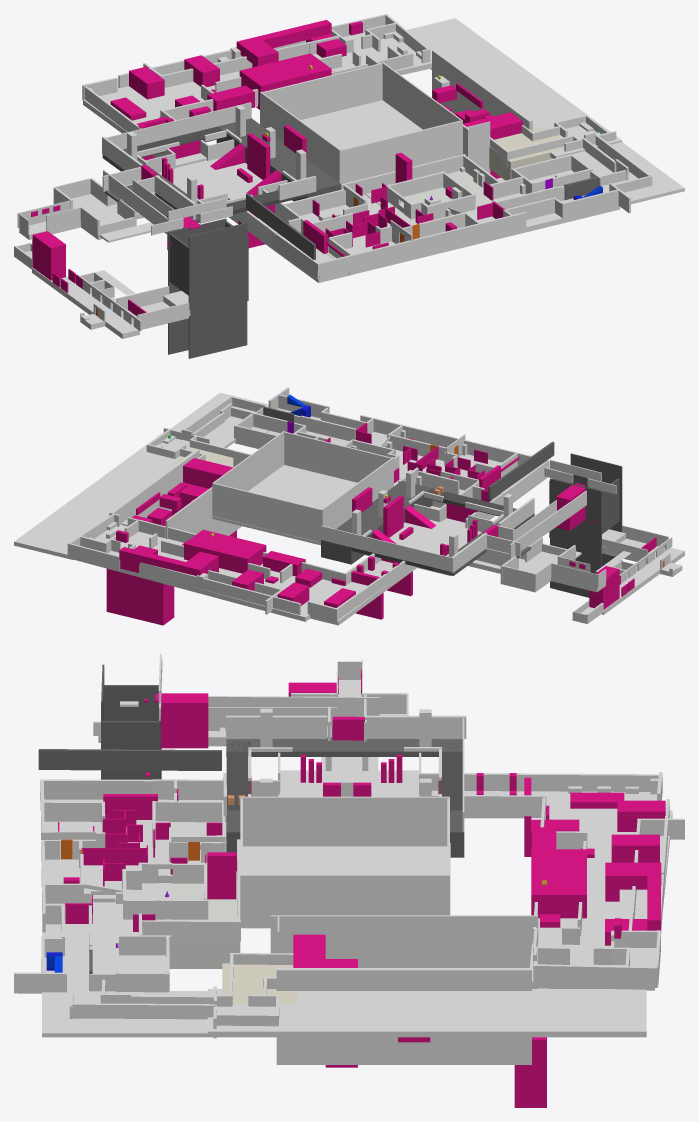
Rendered from 阕限空间第一层.fbx.
3 renders of one model, top to bottom at view 1: azimuth 30°, elevation 25°; view 2: azimuth 150°, elevation 25°; view 3: azimuth 270°, elevation 25°, orthographic. The views are drawn at different scales.
Parts seen in each view (by area): view 1: 2楼会议室, Cube.032, 立方体.236, 立方体.114, 立方体.113, 2F, 立方体.049, 立方体.110, 立方体.111, 立方体.112, 立方体.305, 立方体.003 (+39 smaller); view 2: 2楼会议室, Cube.032, 立方体.113, 2F, 立方体.114, 立方体.110, Cube.036, 立方体.225, 立方体.041, 立方体.111, 立方体.305, 立方体.112 (+47 smaller); view 3: 2楼会议室, 立方体.017, 立方体.003, 立方体.112, Cube.032, 立方体.111, 2F, 立方体.110, 立方体.016, 立方体.142, Cube.054, 立方体.032 (+33 smaller).
Part boxes in pixels (bbox=[...]): 2楼会议室: bbox=[19, 18, 668, 282]; Cube.032: bbox=[129, 20, 346, 116]; 立方体.236: bbox=[188, 222, 247, 358]; 立方体.114: bbox=[341, 120, 461, 184]; 立方体.113: bbox=[262, 63, 382, 119]; 2F: bbox=[102, 118, 341, 222]; 立方体.049: bbox=[319, 212, 526, 278]; 立方体.110: bbox=[300, 100, 422, 149]; 立方体.111: bbox=[381, 62, 462, 154]; 立方体.112: bbox=[260, 91, 341, 183]; 立方体.305: bbox=[106, 102, 251, 149]; 立方体.003: bbox=[438, 54, 525, 120]; 2楼会议室: bbox=[14, 403, 605, 625]; Cube.032: bbox=[119, 529, 322, 605]; 立方体.113: bbox=[213, 483, 321, 542]; 2F: bbox=[321, 481, 534, 575]; 立方体.114: bbox=[284, 431, 391, 482]; 立方体.110: bbox=[212, 465, 357, 545]; Cube.036: bbox=[106, 568, 174, 625]; 立方体.225: bbox=[550, 478, 601, 597]; 立方体.041: bbox=[118, 556, 300, 614]; 立方体.111: bbox=[212, 431, 284, 516]; 立方体.305: bbox=[321, 525, 450, 571]; 立方体.112: bbox=[321, 457, 393, 528]; 2楼会议室: bbox=[42, 680, 672, 1037]; 立方体.017: bbox=[270, 915, 538, 988]; 立方体.003: bbox=[293, 968, 515, 1064]; 立方体.112: bbox=[240, 796, 449, 846]; Cube.032: bbox=[531, 800, 665, 945]; 立方体.111: bbox=[240, 874, 449, 924]; 2F: bbox=[226, 737, 464, 857]; 立方体.110: bbox=[241, 843, 450, 928]; 立方体.016: bbox=[276, 968, 531, 1064]; 立方体.142: bbox=[38, 749, 221, 770]; Cube.054: bbox=[161, 693, 208, 748]; 立方体.032: bbox=[535, 964, 657, 987].
Size of the model in its own units: 22673 by 5728 by 18034.
